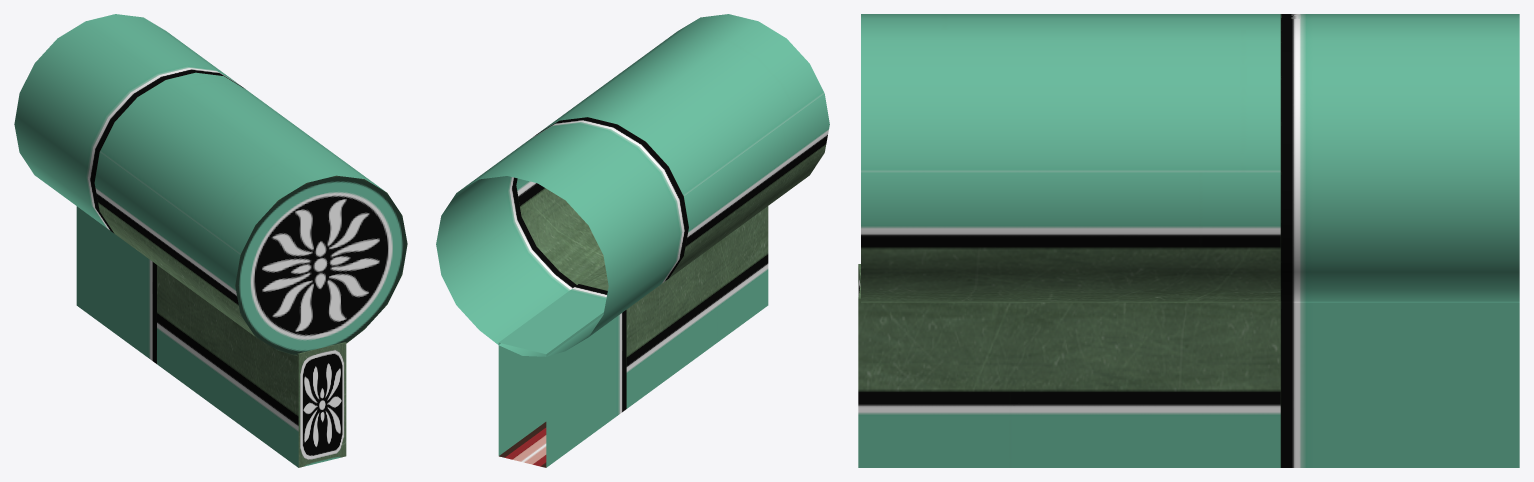
Rendered from SM_Beam01K.fbx.
3 renders of one model, left to right at view 1: azimuth 30°, elevation 25°; view 2: azimuth 150°, elevation 25°; view 3: azimuth 270°, elevation 25°, orthographic. The views are drawn at different scales.
Parts seen in each view (by area): view 1: SM_Beam01K; view 2: SM_Beam01K; view 3: SM_Beam01K.
Part boxes in pixels (left/top/right/bottom): SM_Beam01K: left=14, top=14, right=407, bottom=467; SM_Beam01K: left=436, top=14, right=829, bottom=467; SM_Beam01K: left=858, top=14, right=1519, bottom=467.
Bounding box in the file's own units: 28.53 × 63.59 × 44.62.
Materials: 1 (1 with a texture image).
